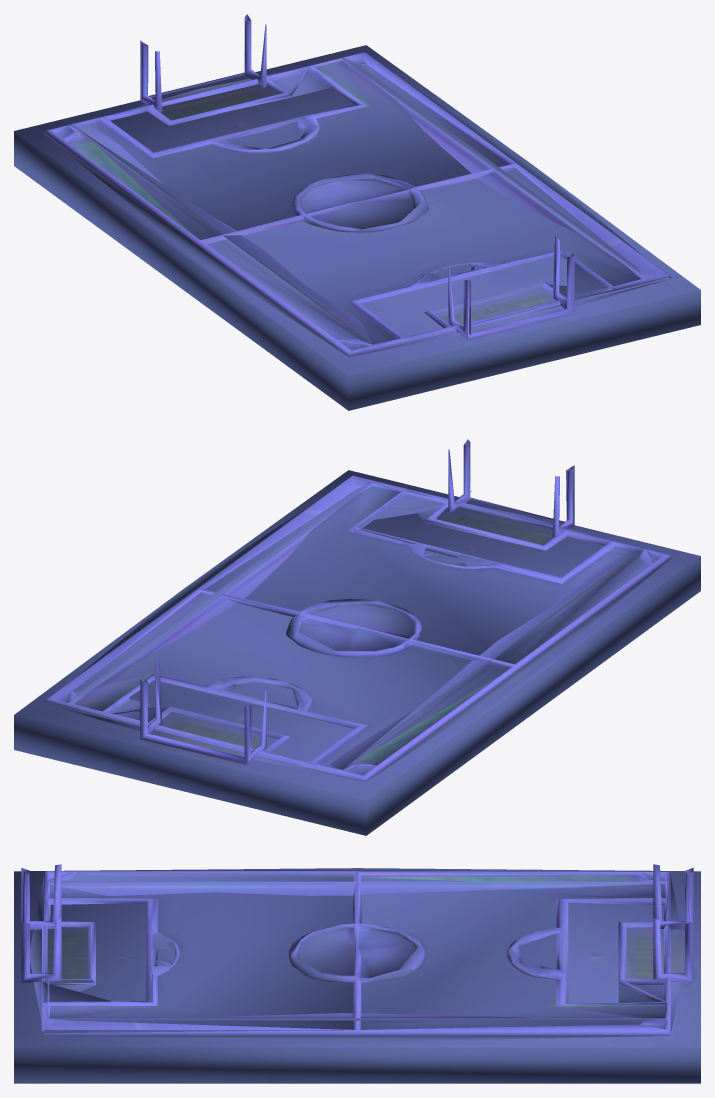
Rendered from model.progressive.glb.
The picture shows the model from 3 angles, top to bottom: view 1: azimuth 30°, elevation 25°; view 2: azimuth 150°, elevation 25°; view 3: azimuth 270°, elevation 25°; orthographic projection. The views are drawn at different scales.
Visible parts, largest first — view 1: texture_pbr_20250901; view 2: texture_pbr_20250901; view 3: texture_pbr_20250901.
Part boxes in pixels (<box>): texture_pbr_20250901: <box>14,14,700,410</box>; texture_pbr_20250901: <box>14,439,700,835</box>; texture_pbr_20250901: <box>14,864,700,1083</box>.
Size of the model in its own units: 1.13 by 0.3124 by 1.86.
1 material, 1 textured.
